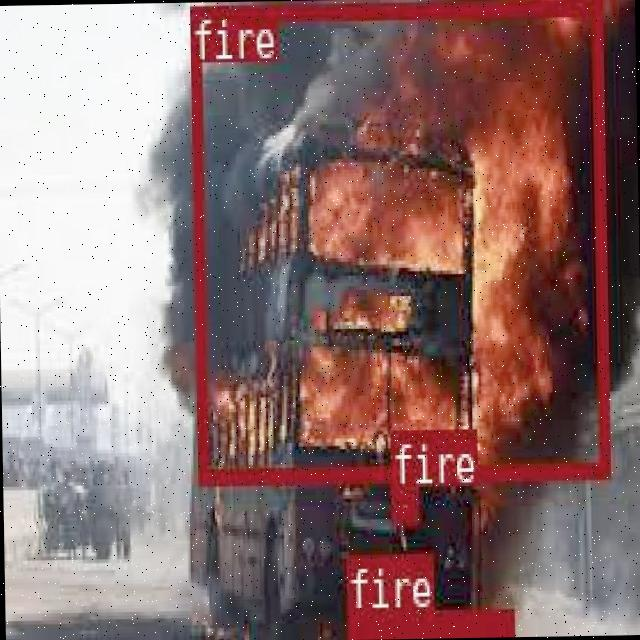fire: (187, 0, 607, 481), (346, 604, 510, 632), (388, 483, 415, 520)
